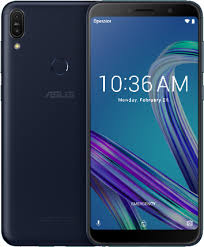asus: (83, 1, 204, 247), (1, 1, 89, 247)
